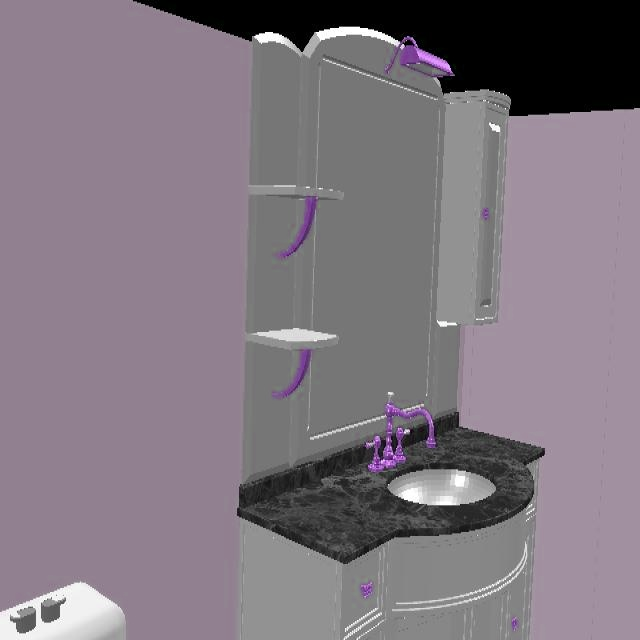cabinet: (240, 431, 544, 640)
shelf: (247, 180, 345, 335), (246, 335, 330, 400)
toilet: (0, 581, 128, 640)
washbasin: (349, 463, 532, 532)
